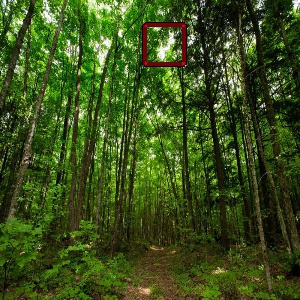square: (139, 21, 188, 69)
